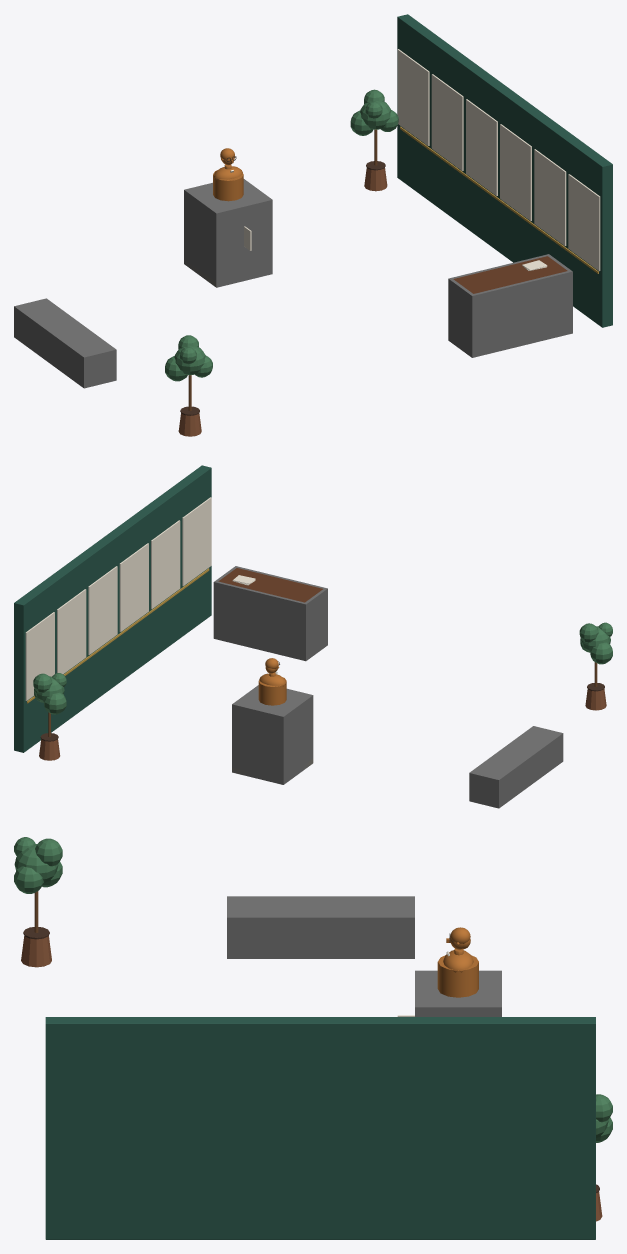
Rendered from S1_lobby.glb.
3 renders of one model, top to bottom at view 1: azimuth 30°, elevation 25°; view 2: azimuth 150°, elevation 25°; view 3: azimuth 270°, elevation 25°, orthographic. The views are drawn at different scales.
Parts seen in each view (by area): view 1: timeline_wall, COL_desk, COL_statue, COL_bench, SIGN_timeline_01, SIGN_timeline_05, SIGN_timeline_02, SIGN_timeline_06, SIGN_timeline_03, SIGN_timeline_04, plant_lobby_1, plant_lobby_2 (+3 smaller); view 2: timeline_wall, COL_desk, COL_statue, COL_bench, SIGN_timeline_01, SIGN_timeline_04, SIGN_timeline_02, SIGN_timeline_03, SIGN_timeline_05, SIGN_timeline_06, plant_lobby_1, plant_lobby_2 (+3 smaller); view 3: timeline_wall, COL_bench, plant_lobby_1, COL_statue, statue_bust, plant_lobby_2.
Part boxes in pixels (x1,y1,x2,y2): timeline_wall: [397, 14, 612, 327]; COL_desk: [448, 254, 572, 357]; COL_statue: [184, 179, 272, 287]; COL_bench: [14, 298, 116, 388]; SIGN_timeline_01: [568, 174, 600, 271]; SIGN_timeline_05: [431, 74, 463, 170]; SIGN_timeline_02: [534, 149, 566, 245]; SIGN_timeline_06: [397, 49, 429, 145]; SIGN_timeline_03: [500, 124, 531, 220]; SIGN_timeline_04: [466, 99, 497, 195]; plant_lobby_1: [165, 335, 212, 436]; plant_lobby_2: [350, 89, 398, 191]; timeline_wall: [14, 465, 211, 752]; COL_desk: [213, 566, 327, 661]; COL_statue: [232, 685, 313, 784]; COL_bench: [469, 726, 563, 808]; SIGN_timeline_01: [182, 497, 211, 586]; SIGN_timeline_04: [88, 566, 117, 654]; SIGN_timeline_02: [151, 520, 180, 609]; SIGN_timeline_03: [119, 543, 148, 631]; SIGN_timeline_05: [57, 589, 86, 673]; SIGN_timeline_06: [25, 612, 54, 700]; plant_lobby_1: [579, 622, 612, 710]; plant_lobby_2: [33, 673, 66, 760]; timeline_wall: [45, 1017, 595, 1239]; COL_bench: [227, 896, 414, 958]; plant_lobby_1: [14, 837, 62, 967]; COL_statue: [415, 970, 501, 1016]; statue_bust: [437, 927, 478, 997]; plant_lobby_2: [596, 1094, 612, 1221].
Bounding box in the file's own units: 7.79 × 2.6 × 6.53.
